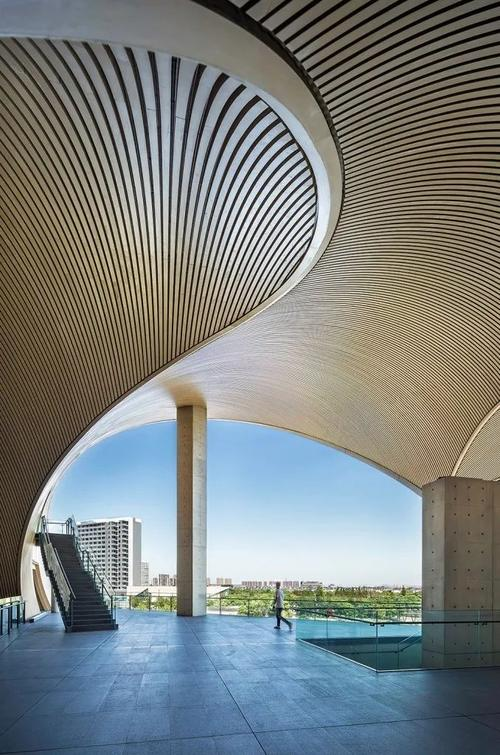buildings: (0, 83, 362, 472), (55, 378, 446, 606)
